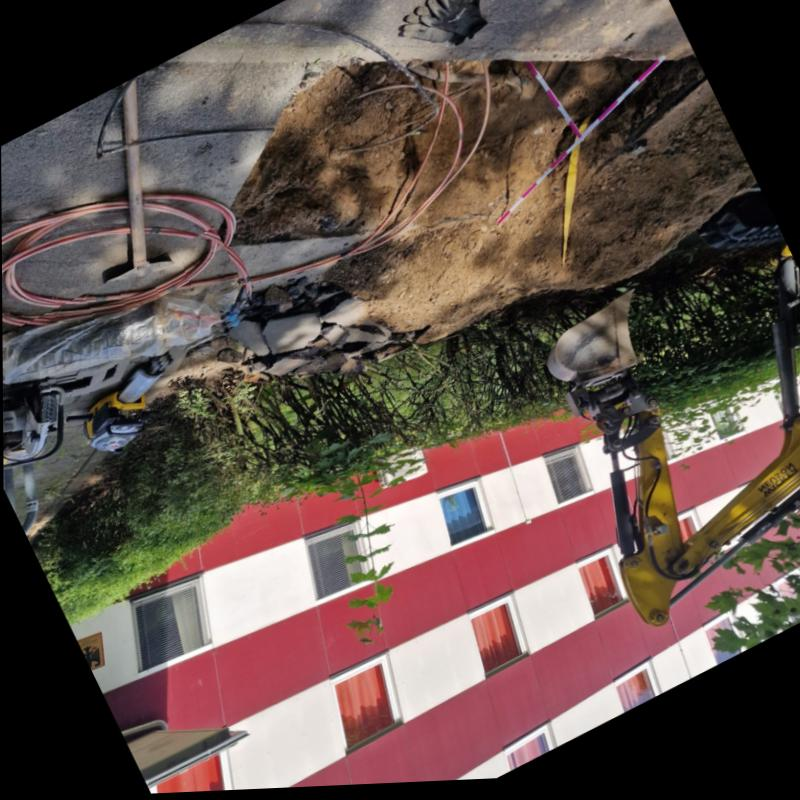NT-Muffen: (2, 290, 250, 388)
